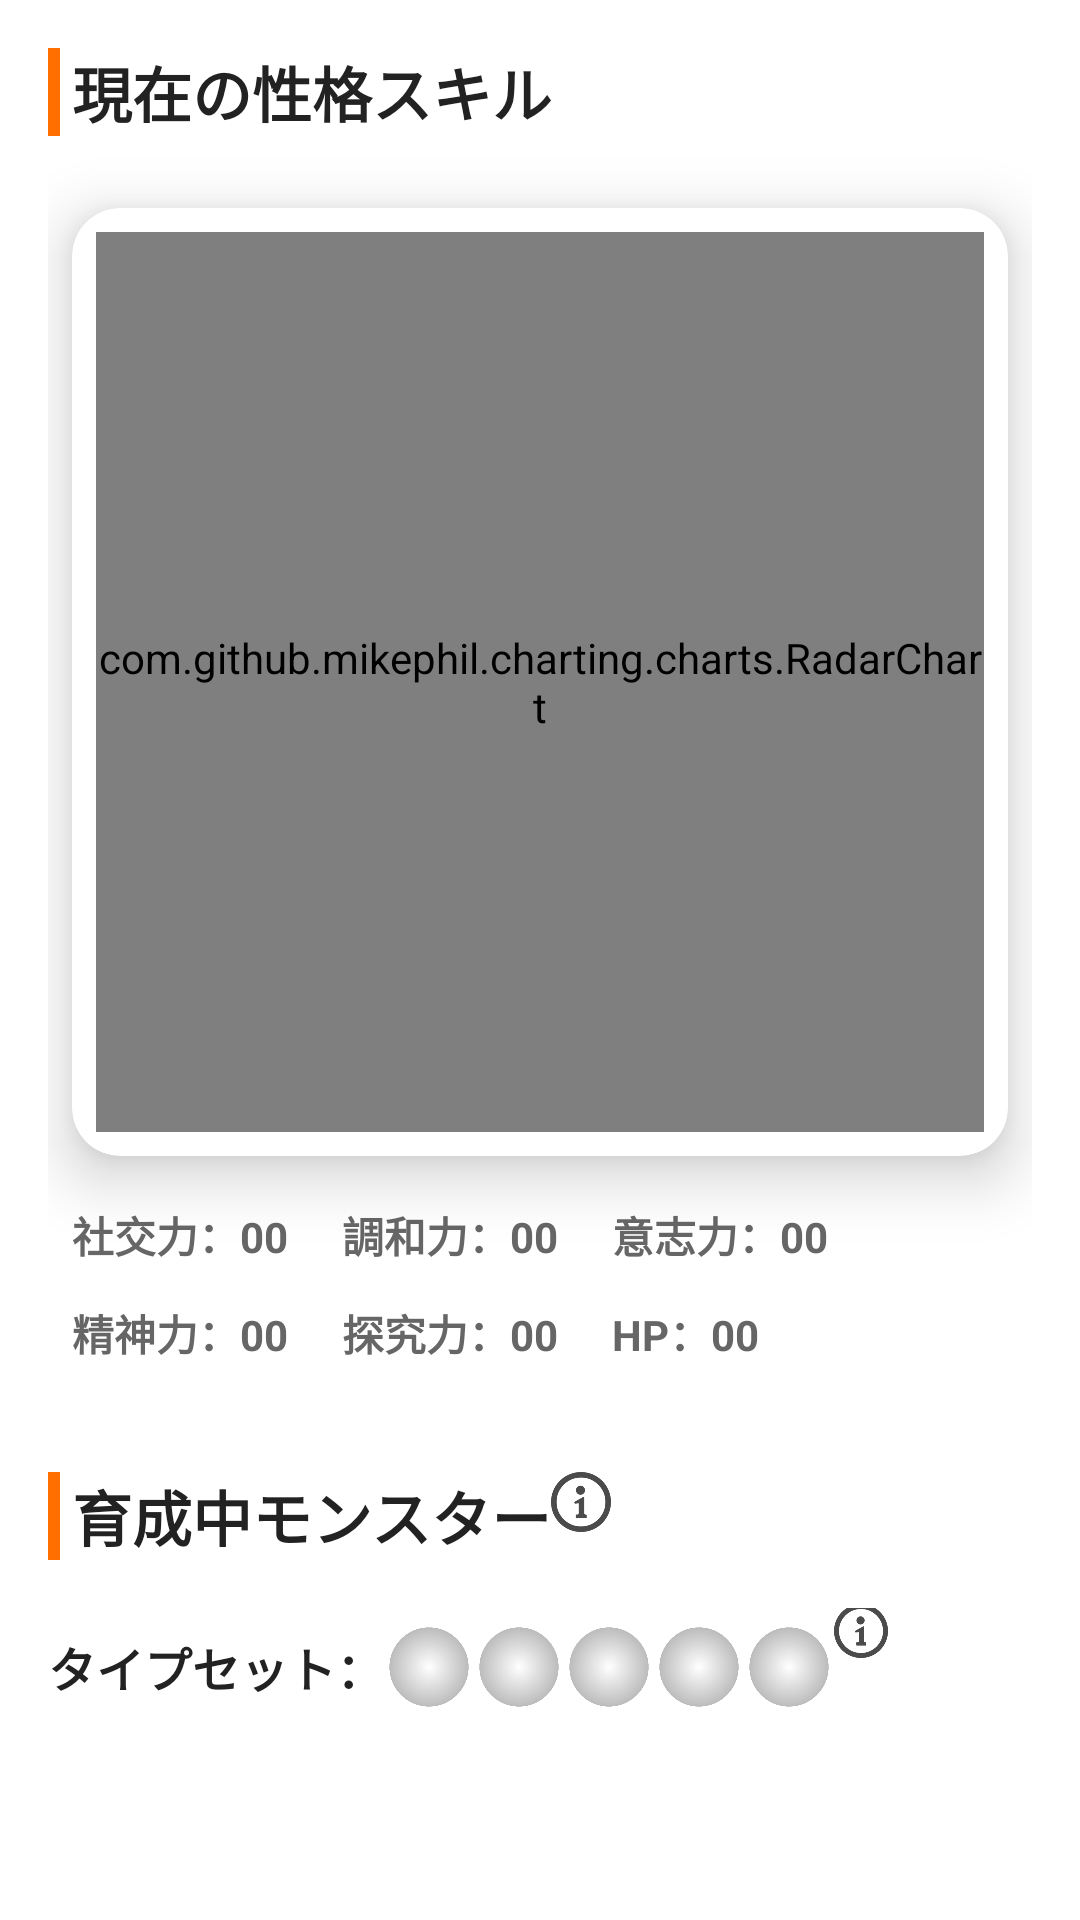

Screen size 1080 × 1920. Icon name, then its center in pixels as point (x, y):
info: point (581, 1502), point (861, 1633)
